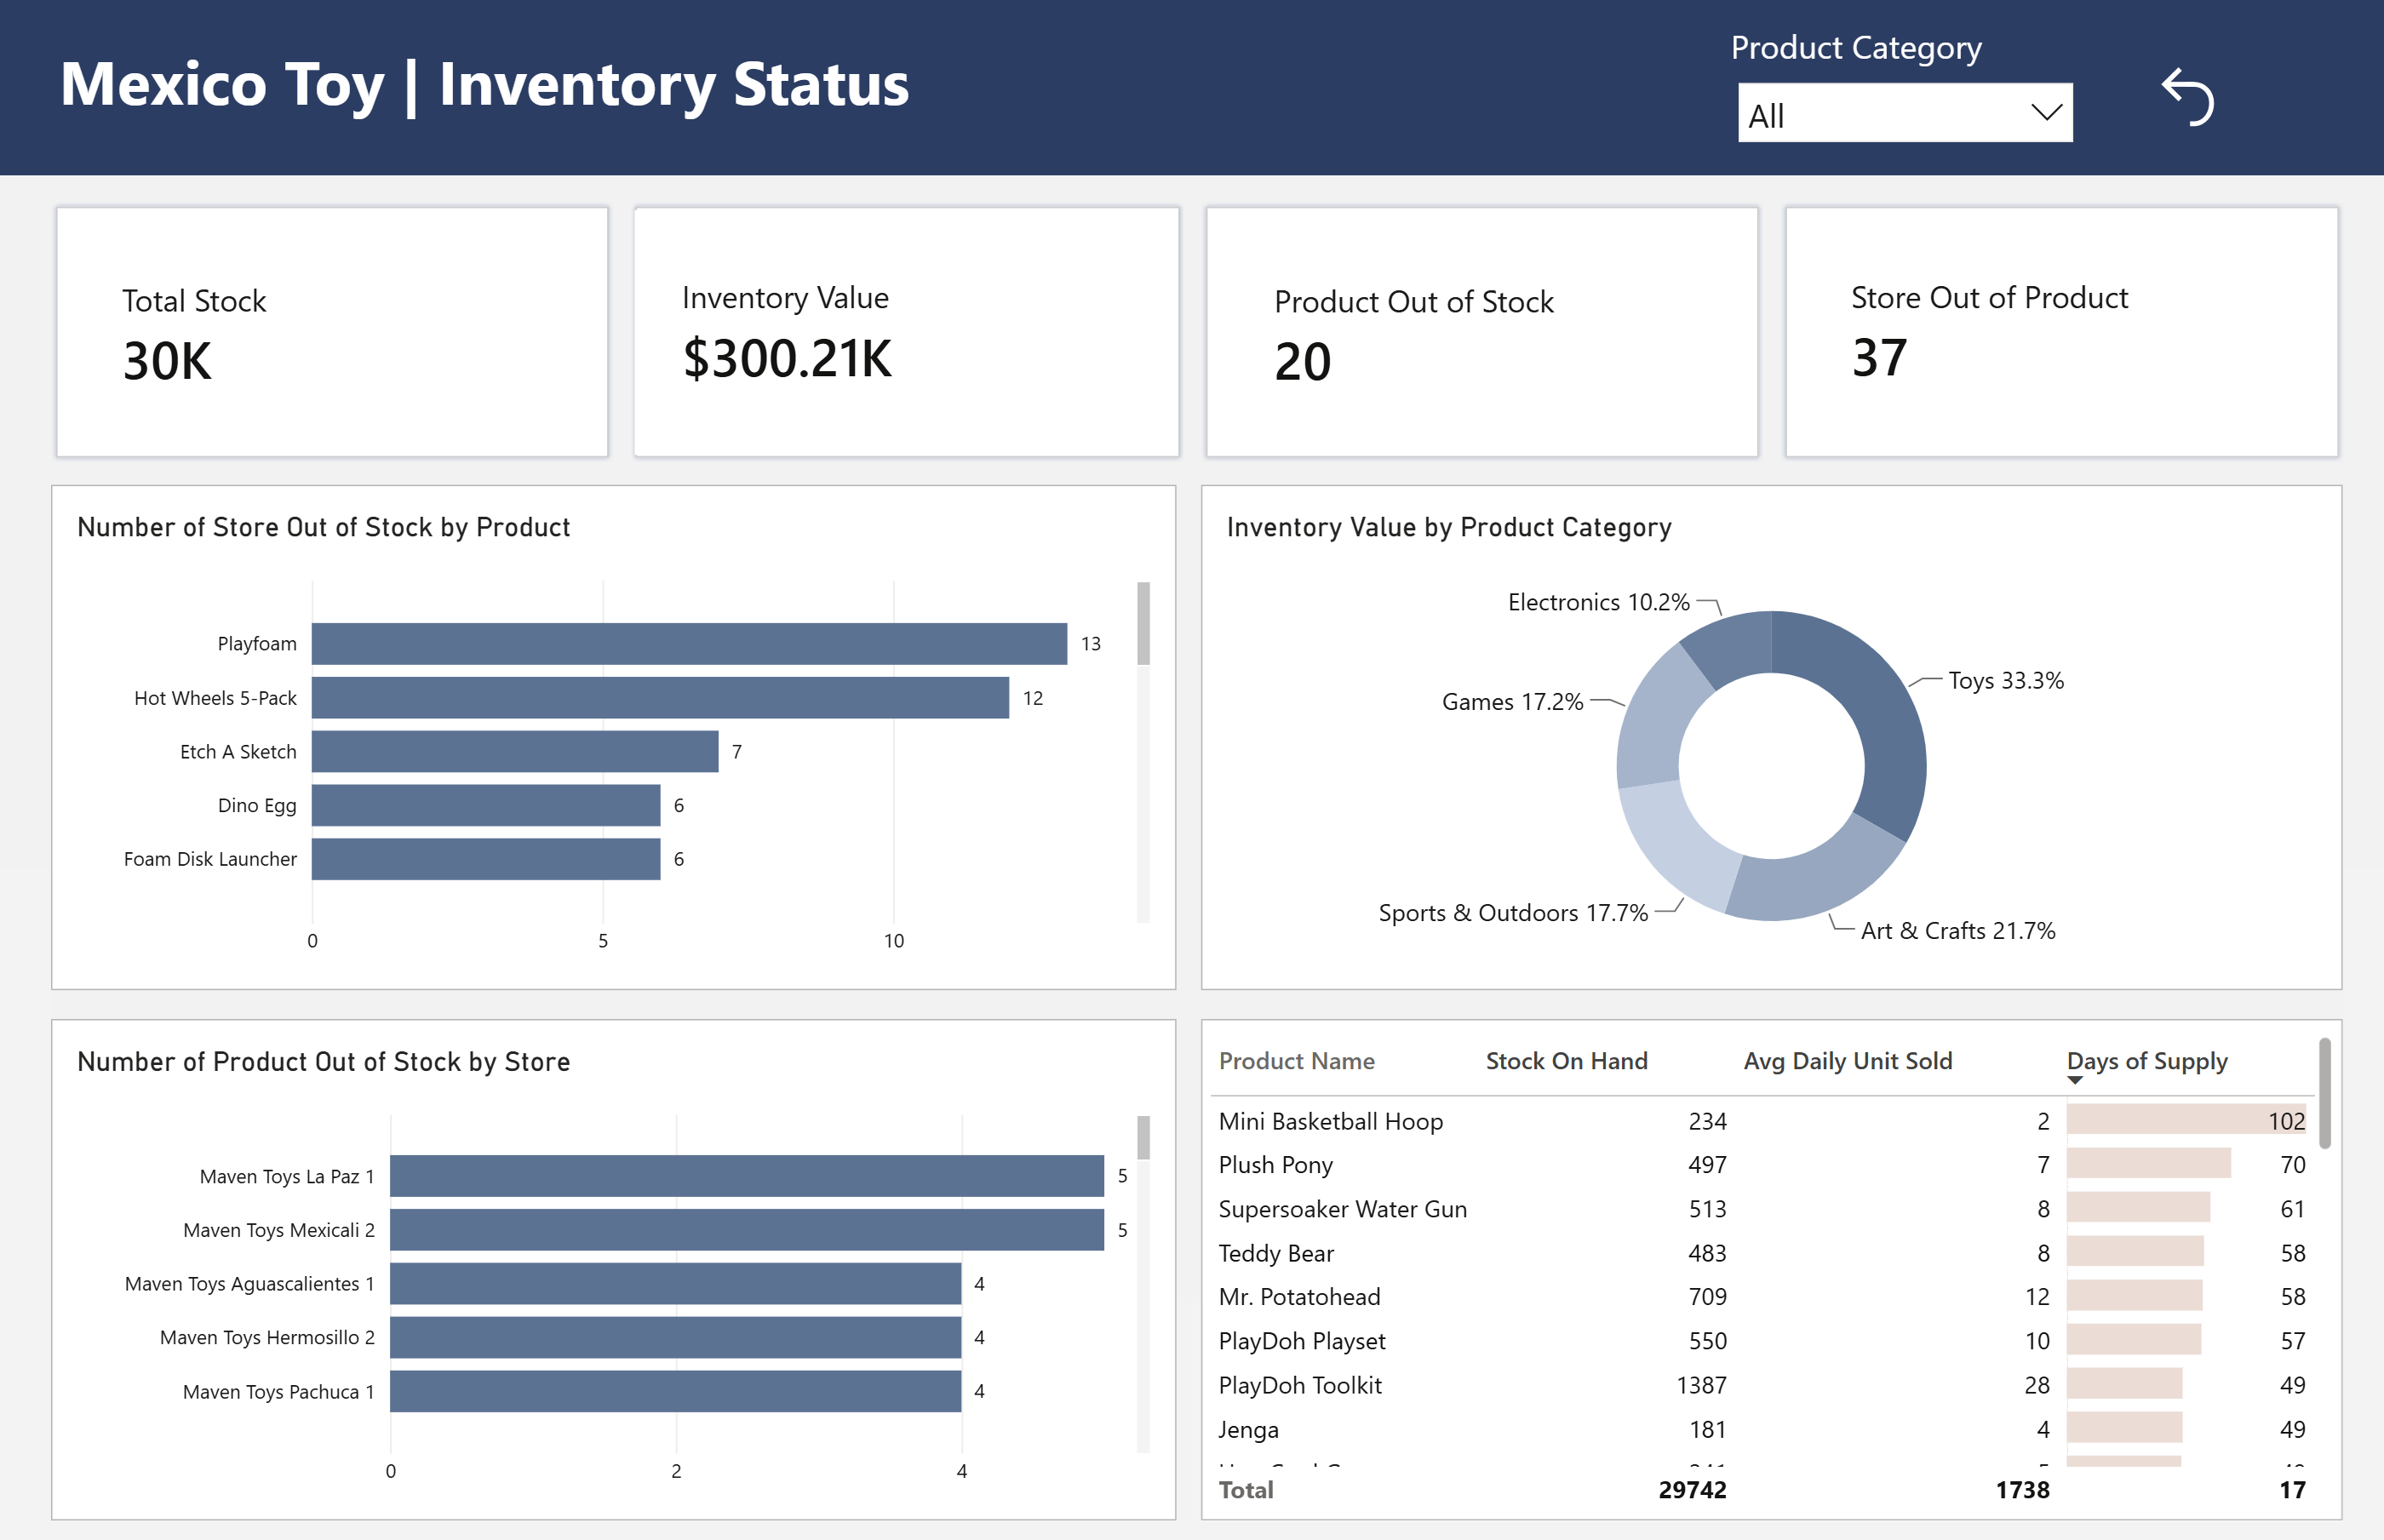

The dashboard page shown, as its layout file describes it:
{"tool":"powerbi","page":{"name":"Inventory","canvas":[1464,950],"ordinal":1},"visuals":[{"type":"shape","box":[32.9,123.5,345,160],"z":0,"group":"g1"},{"type":"group","id":"g1","title":"Group 1","box":[32.9,123.5,345,160],"z":0},{"type":"shape","box":[387.9,123.5,340.1,160],"z":0,"group":"g2"},{"type":"group","id":"g2","title":"Group 2","box":[387.9,123.5,340.1,160],"z":1000},{"type":"shape","box":[738,123.5,345,160],"z":1000,"group":"g3"},{"type":"shape","box":[1092.9,123.5,345.6,160],"z":1500,"group":"g4"},{"type":"group","id":"g3","title":"Group 3","box":[738,123.5,345,160],"z":2000},{"type":"group","id":"g4","title":"Group 4","box":[1092.9,123.5,345,160],"z":3000},{"type":"textbox","title":"Sales Overview","box":[0,0,1465,107.5],"z":4000},{"type":"slicer","title":"Product Category","fields":{"Values":["products.Product_Category"]},"box":[1057.5,15,225,82.5],"z":5000},{"type":"actionButton","box":[1295,35,97.5,47.5],"z":6000},{"type":"textbox","box":[32.3,18,570.9,79],"z":7000},{"type":"cardVisual","fields":{"Data":["Metric.Total Stock"]},"box":[47.9,131.3,310,148.1],"z":8000,"group":"g1"},{"type":"clusteredBarChart","title":"Number of Store Out of Stock by Product","fields":{"Category":["products.Product_Name"],"Y":["Metric.countofstore"]},"box":[32.5,297.5,690,310],"z":8000},{"type":"clusteredBarChart","title":"Number of Product Out of Stock by Store","fields":{"Category":["stores.Store_Name"],"Y":["Metric.Out_of_stock"]},"box":[32.5,625,690,307.5],"z":9000},{"type":"cardVisual","fields":{"Data":["Metric.Inventory Value"]},"box":[390.5,128.5,332.5,150],"z":10000,"group":"g2"},{"type":"donutChart","title":"Inventory Value by Product Category","fields":{"Category":["products.Product_Category"],"Y":["Metric.Inventory Value"]},"box":[737.5,297.5,700,310],"z":10000},{"type":"cardVisual","fields":{"Data":["Metric.Products_Out_of_stock"]},"box":[754.1,128.5,312,154],"z":11000,"group":"g3"},{"type":"pivotTable","fields":{"Rows":["products.Product_Name"],"Values":["Sum(inventory.Stock_On_Hand)","Metric.Daily Sales Rate","Metric.Days of Supply"]},"box":[737.5,625,700,307.5],"z":11000},{"type":"cardVisual","fields":{"Data":["Metric.Store out of product"]},"box":[1106.9,128.8,314.1,150],"z":12000,"group":"g4"}]}

Visuals, with their boxes in screenshot pixels (x1, y1, x2, y2), scaled from the page's 1464x950 canvas onto the 2384x1540 screenshot:
shape: <bbox>54, 200, 616, 460</bbox>
"Group 1" group: <bbox>54, 200, 616, 460</bbox>
shape: <bbox>632, 200, 1185, 460</bbox>
"Group 2" group: <bbox>632, 200, 1185, 460</bbox>
shape: <bbox>1201, 200, 1763, 460</bbox>
shape: <bbox>1779, 200, 2342, 460</bbox>
"Group 3" group: <bbox>1201, 200, 1763, 460</bbox>
"Group 4" group: <bbox>1779, 200, 2341, 460</bbox>
"Sales Overview" textbox: <bbox>0, 0, 2383, 175</bbox>
"Product Category" slicer: <bbox>1722, 25, 2089, 158</bbox>
actionButton: <bbox>2109, 57, 2267, 134</bbox>
textbox: <bbox>53, 29, 983, 157</bbox>
cardVisual - Metric.Total Stock: <bbox>78, 213, 583, 453</bbox>
"Number of Store Out of Stock by Product" clusteredBarChart: <bbox>53, 483, 1177, 985</bbox>
"Number of Product Out of Stock by Store" clusteredBarChart: <bbox>53, 1013, 1177, 1512</bbox>
cardVisual - Metric.Inventory Value: <bbox>636, 209, 1178, 451</bbox>
"Inventory Value by Product Category" donutChart: <bbox>1201, 483, 2341, 985</bbox>
cardVisual - Metric.Products_Out_of_stock: <bbox>1228, 209, 1736, 458</bbox>
pivotTable - products.Product_Name x Sum(inventory.Stock_On_Hand): <bbox>1201, 1013, 2341, 1512</bbox>
cardVisual - Metric.Store out of product: <bbox>1802, 209, 2314, 452</bbox>
